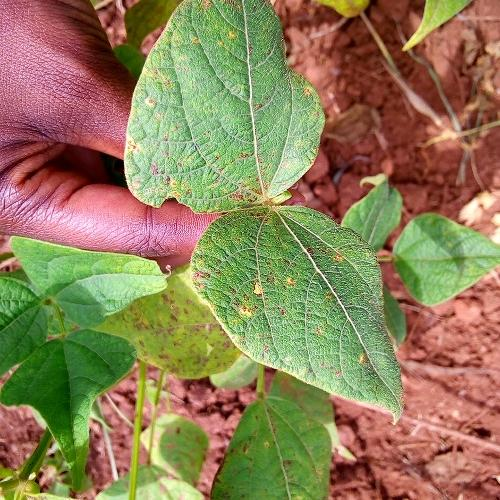hawar: (138, 90, 292, 190), (218, 240, 344, 327)
mozaik: (148, 0, 283, 79), (271, 333, 390, 388)
